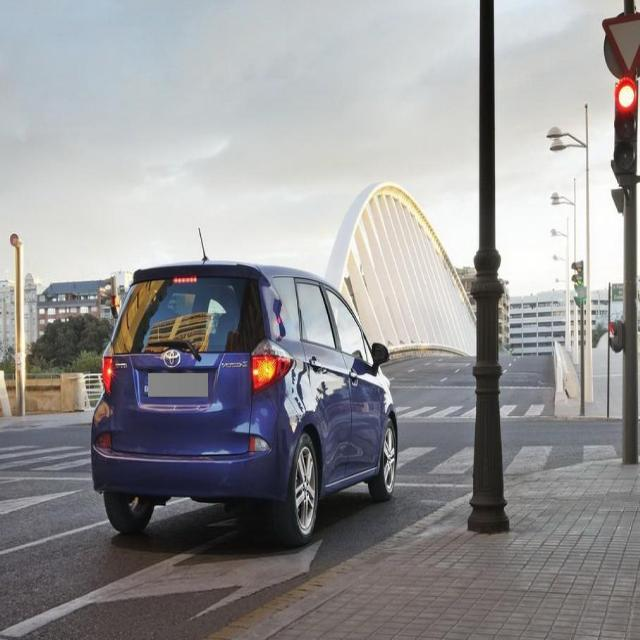back_glass: (108, 272, 268, 357)
back_left_side_light: (101, 340, 115, 394)
back_right_side_light: (250, 335, 294, 393)
door: (284, 276, 354, 476)
front_right_side_door: (319, 279, 384, 483)
front_right_side_mirror: (370, 342, 391, 376)
rear_bumper: (90, 395, 301, 501)
wheel: (276, 430, 320, 545), (368, 419, 397, 501), (104, 492, 156, 534)
